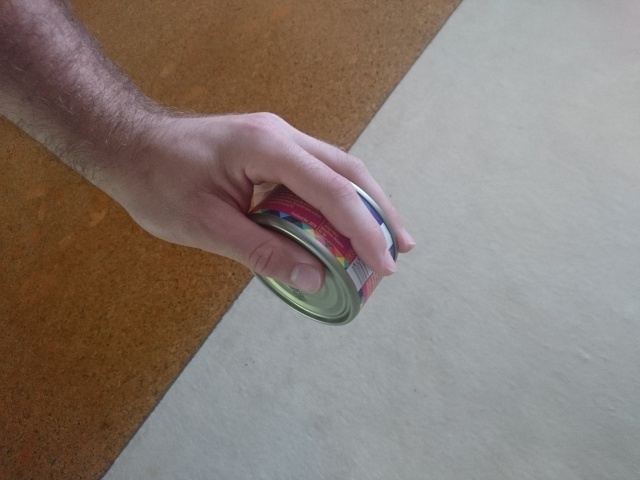Giana Tuna Salad Mexico 185g: (241, 167, 400, 329)
